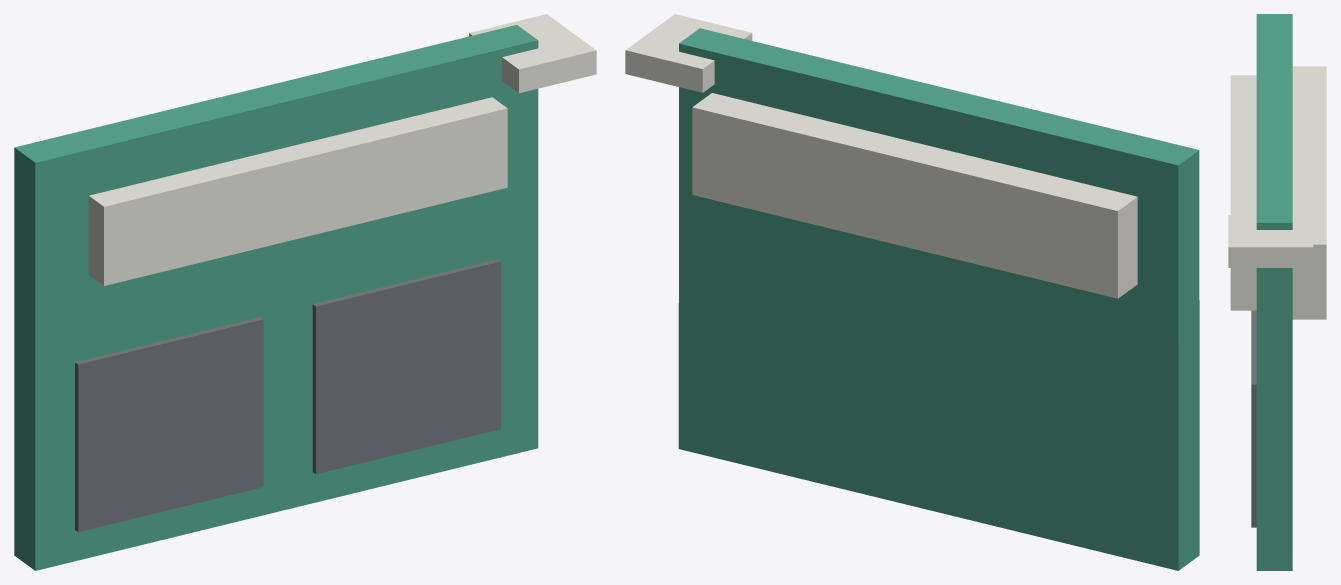
The model's file is stack_part_4_asic.glb.
3 renders of one model, left to right at view 1: azimuth 30°, elevation 25°; view 2: azimuth 150°, elevation 25°; view 3: azimuth 270°, elevation 25°, orthographic. The views are drawn at different scales.
Visible parts, largest first — view 1: board, ic, conn; view 2: board, conn; view 3: board, conn, ic.
Part boxes in pixels (bbox=[...]): board: bbox=[14, 25, 538, 570]; ic: bbox=[75, 259, 501, 532]; conn: bbox=[88, 14, 596, 285]; board: bbox=[678, 28, 1199, 570]; conn: bbox=[625, 14, 1137, 298]; board: bbox=[1256, 14, 1292, 570]; conn: bbox=[1228, 66, 1326, 319]; ic: bbox=[1251, 310, 1256, 527].
Bounding box in the file's own units: 23.79 × 17.03 × 4.37.
